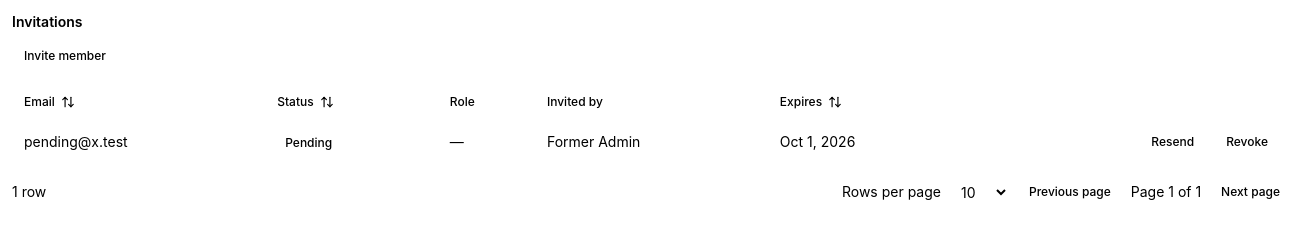
Resend: an inviter without standing (F-149) › says the inviter can no longer invite and reloads the voided row
Check: the text "pending@x.test" is shown, box [12,120,265,164]
Click the button "Resend".
click(1173, 142)  # box [1139,126,1206,158]
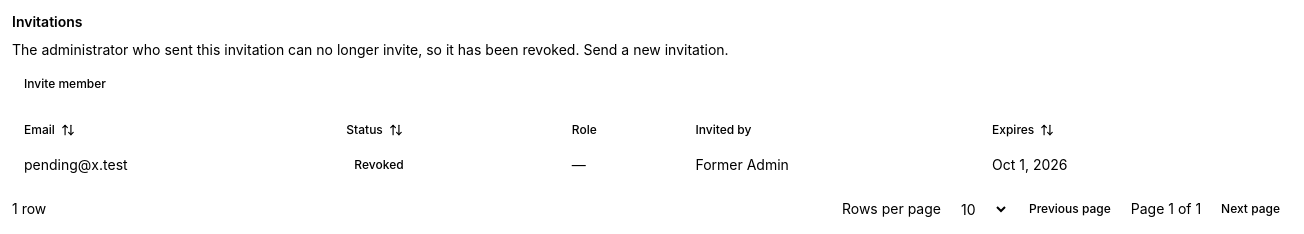
Check: the message shows "The administrator who sent this invitation can no longer invite, so it has been revoked. Send a new invitation.", box [12,41,729,58]
Check: the text "Revoked" is shown, box [354,157,404,172]
Check: the button "Resend" is gone
